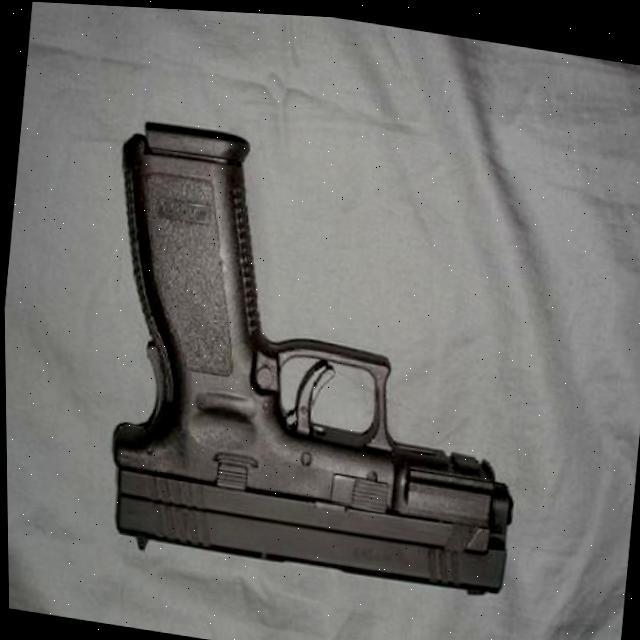gun: (76, 110, 549, 606)
